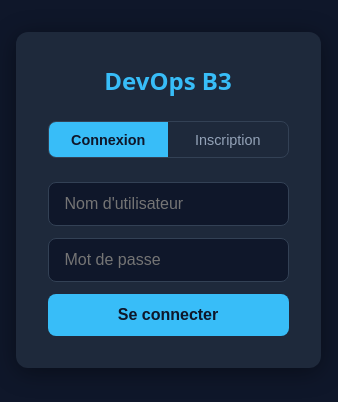
Scenario: AuthForm – connexion › affiche un message d'erreur si le serveur renvoie 401
Type "alice" into the field with placeholder "Nom d'utilisateur" at (168, 204), box x1=48 y1=182 x2=288 y2=226
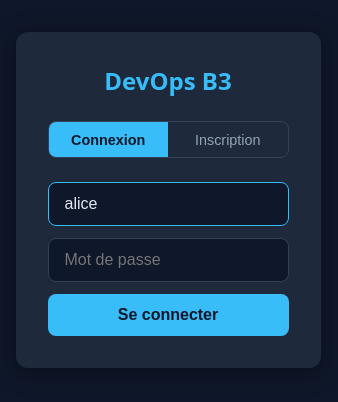
Type "mauvais" into the password field with placeholder "Mot de passe" at (168, 260), box x1=48 y1=238 x2=288 y2=282
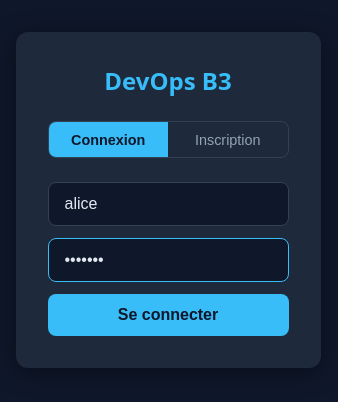
Click the button "Se connecter" at (168, 315), box x1=48 y1=294 x2=288 y2=336
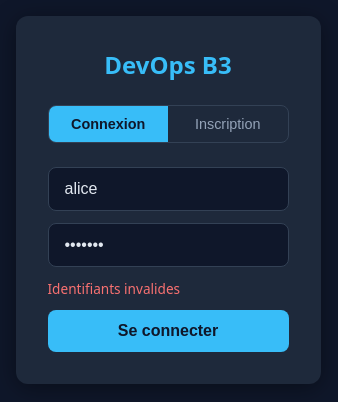
Result: the text "Identifiants invalides" is shown at x1=48 y1=279 x2=180 y2=298
